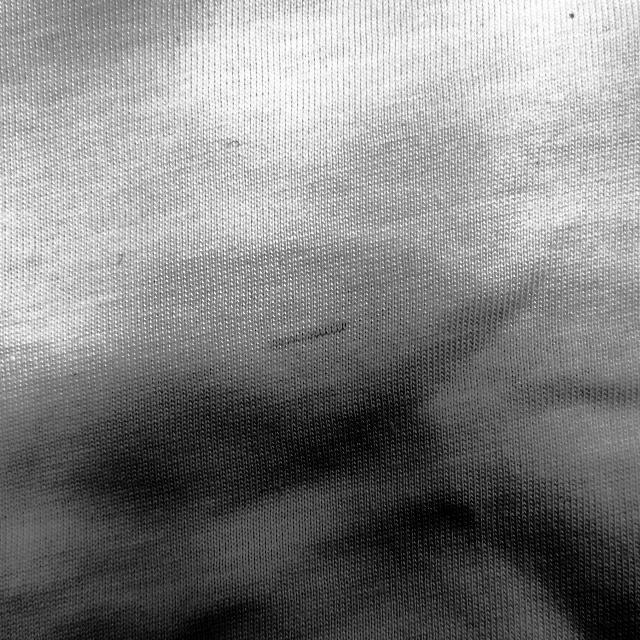Foreign_yarn: (252, 317, 372, 352)
